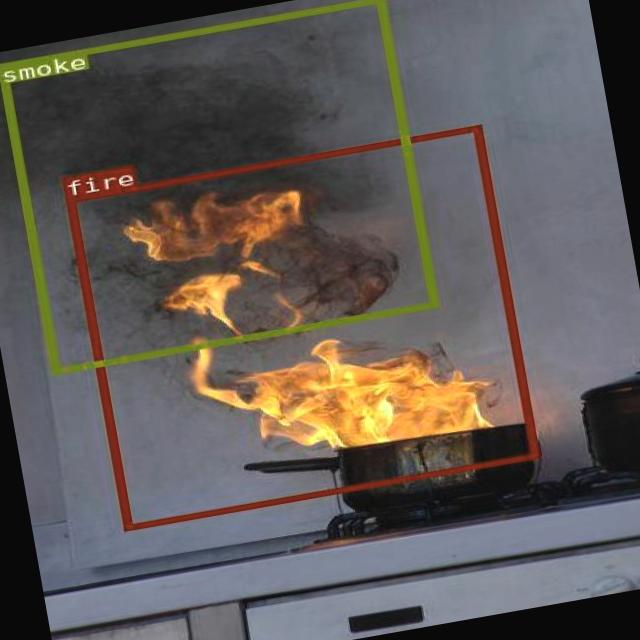fire: (64, 124, 538, 529)
smoke: (0, 0, 436, 374)
